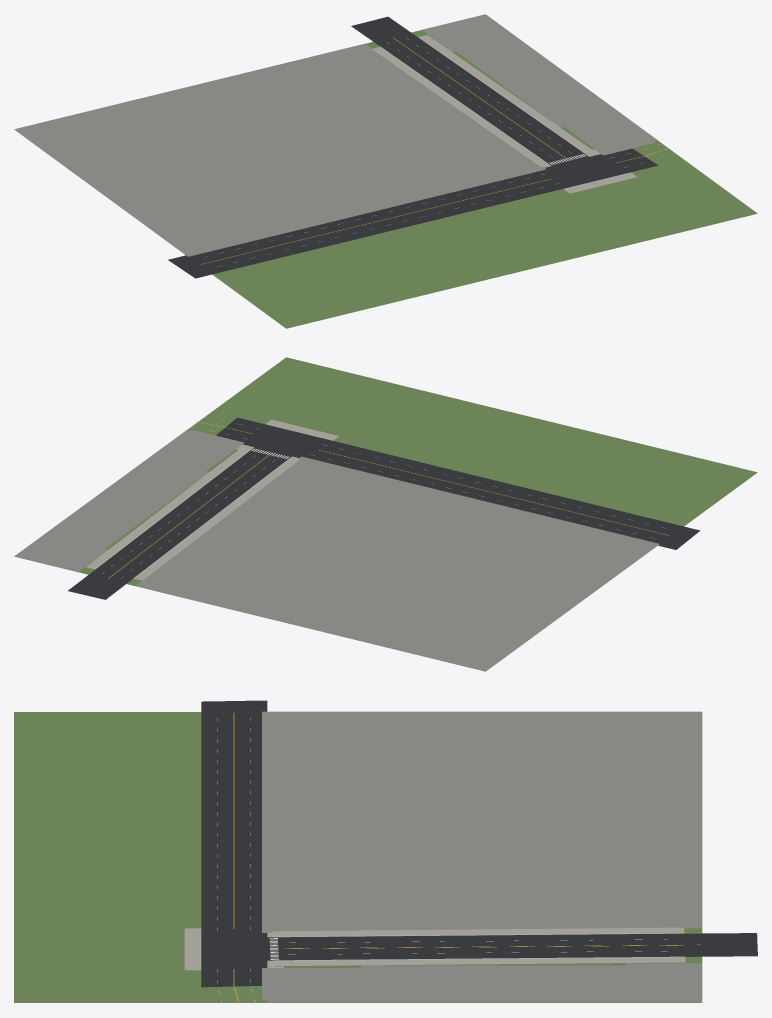
The model's file is Ground_6_0.fbx.
The picture shows the model from 3 angles, top to bottom: view 1: azimuth 30°, elevation 25°; view 2: azimuth 150°, elevation 25°; view 3: azimuth 270°, elevation 25°; orthographic projection. The views are drawn at different scales.
Visible parts, largest first — view 1: Ground_6_0; view 2: Ground_6_0; view 3: Ground_6_0.
Part boxes in pixels (x1,y1,x2,y2): Ground_6_0: (14,14,757,328); Ground_6_0: (14,357,757,671); Ground_6_0: (14,700,757,1002).
Size of the model in its own units: 260 by 0.14 by 270.
